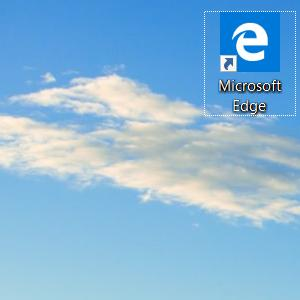edge: (219, 12, 280, 72)
